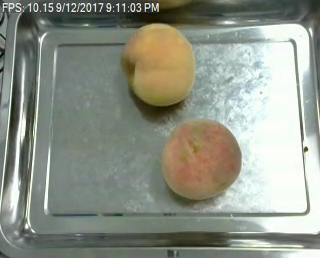Peach: (161, 117, 242, 199), (123, 21, 195, 106)
